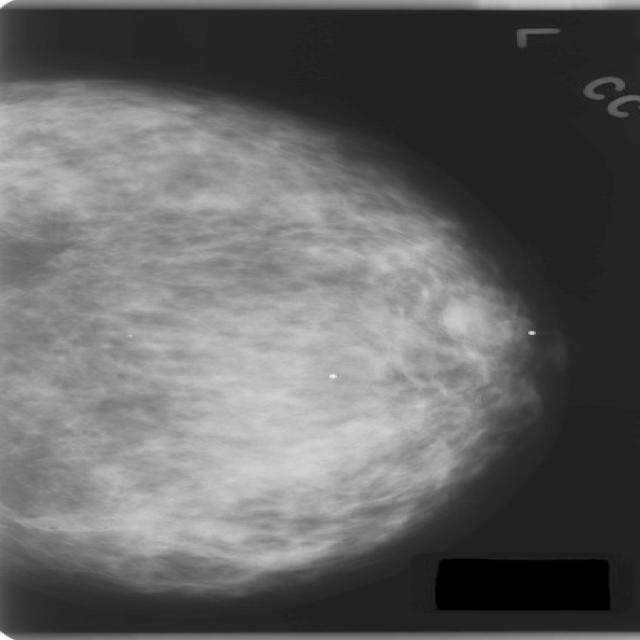tumour: (438, 293, 513, 343)
